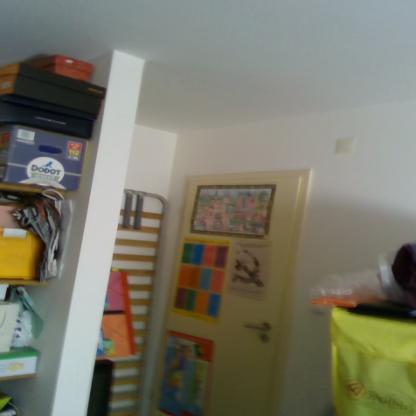door: (160, 179, 284, 414)
lever: (240, 322, 274, 334)
